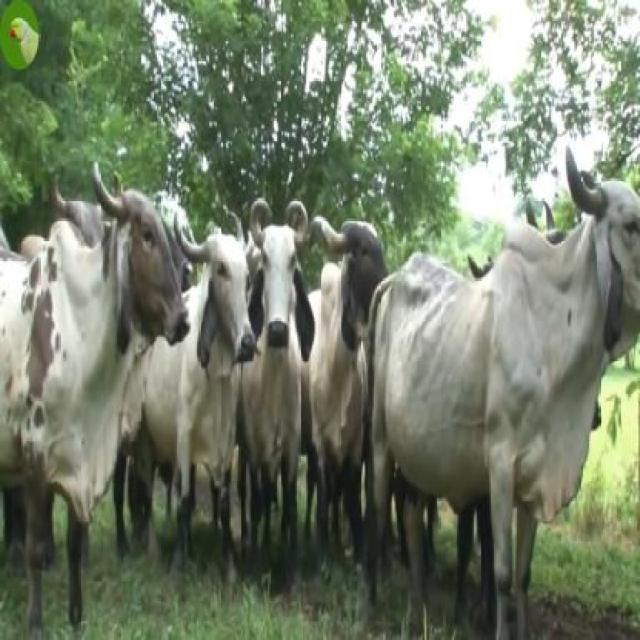Cow: (370, 151, 638, 631), (2, 183, 185, 639), (242, 195, 310, 572), (185, 203, 248, 546)
